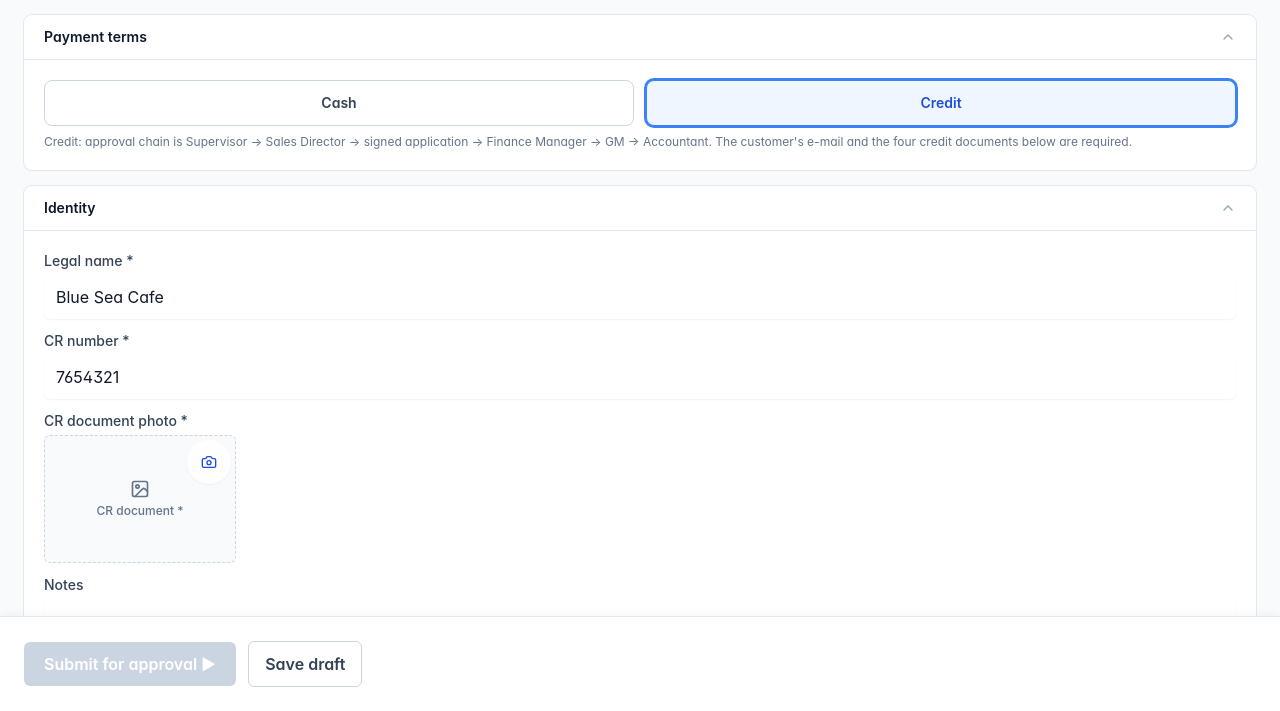
the new-customer form › a group with an error is described by it
Click the button "Save draft". click: (305, 664)
box: [248,641,362,687]
(page scrolled)
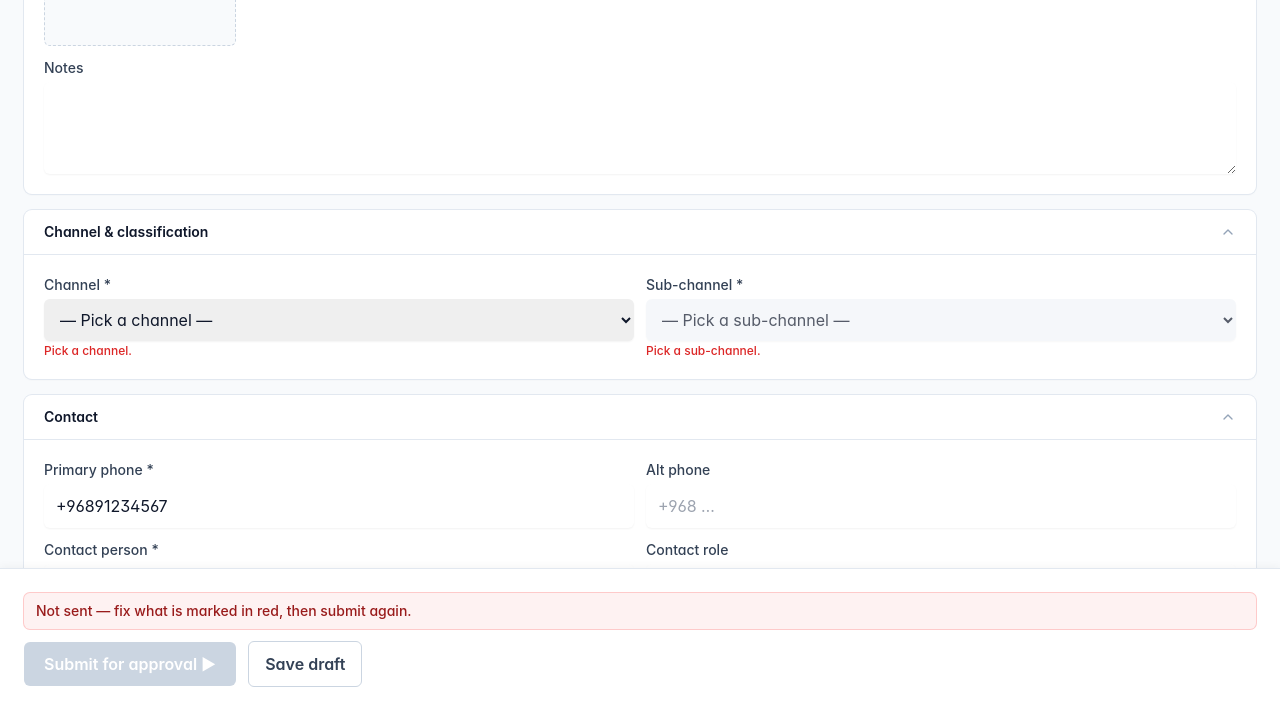
Check: the text "Pick a channel." is shown, box [44,343,132,358]
